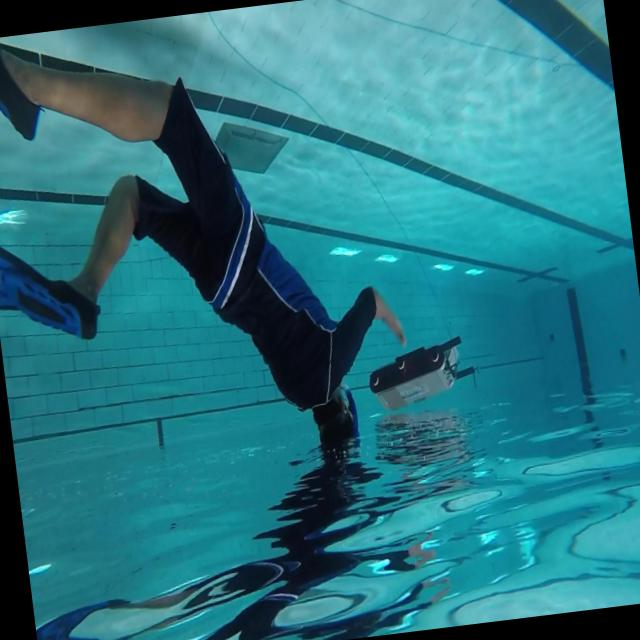human: (0, 0, 421, 511)
